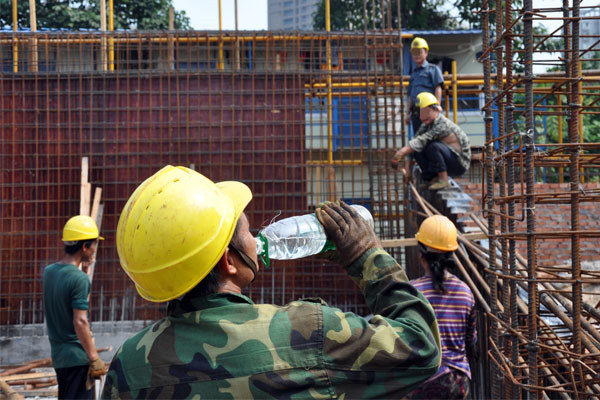helmet: (116, 165, 253, 303), (415, 215, 458, 252), (62, 215, 103, 242), (414, 91, 440, 110), (411, 37, 428, 49)
person: (102, 163, 440, 400), (410, 214, 481, 400), (40, 214, 106, 400), (390, 90, 473, 192), (404, 36, 446, 136)
